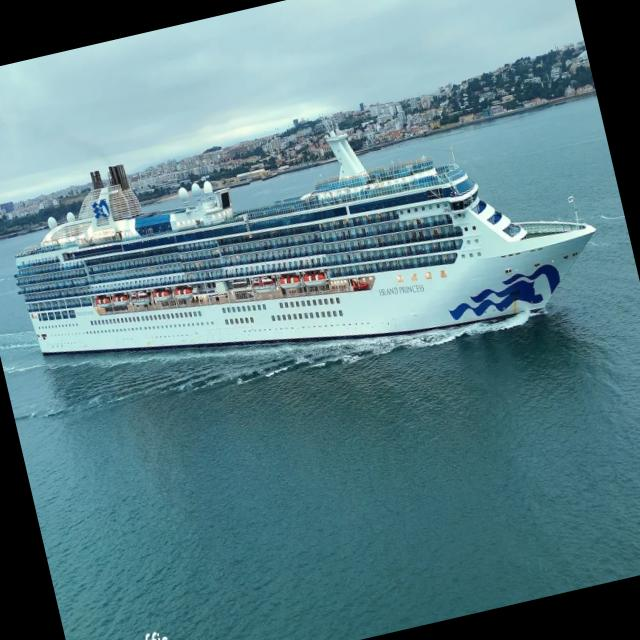Cruise: (14, 127, 595, 354)
